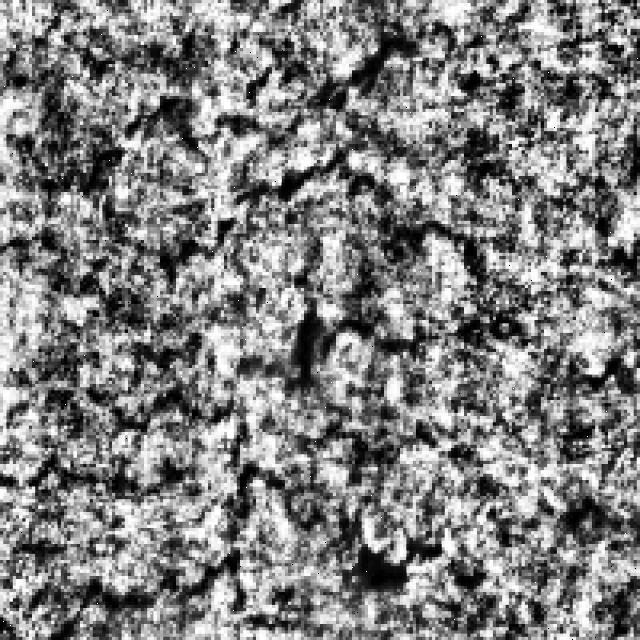Pitted_Surface: (218, 19, 454, 602), (0, 378, 544, 620), (70, 9, 528, 276)
